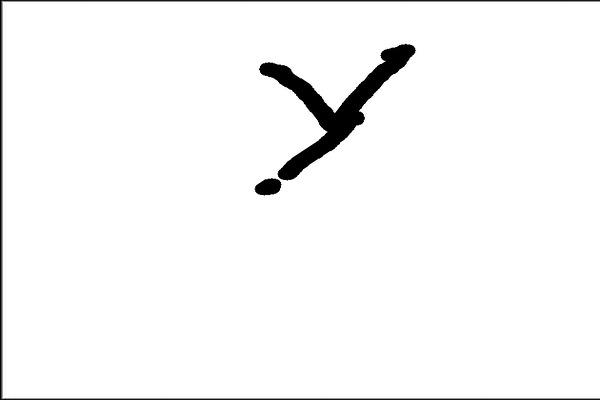Y: (246, 30, 494, 199)
